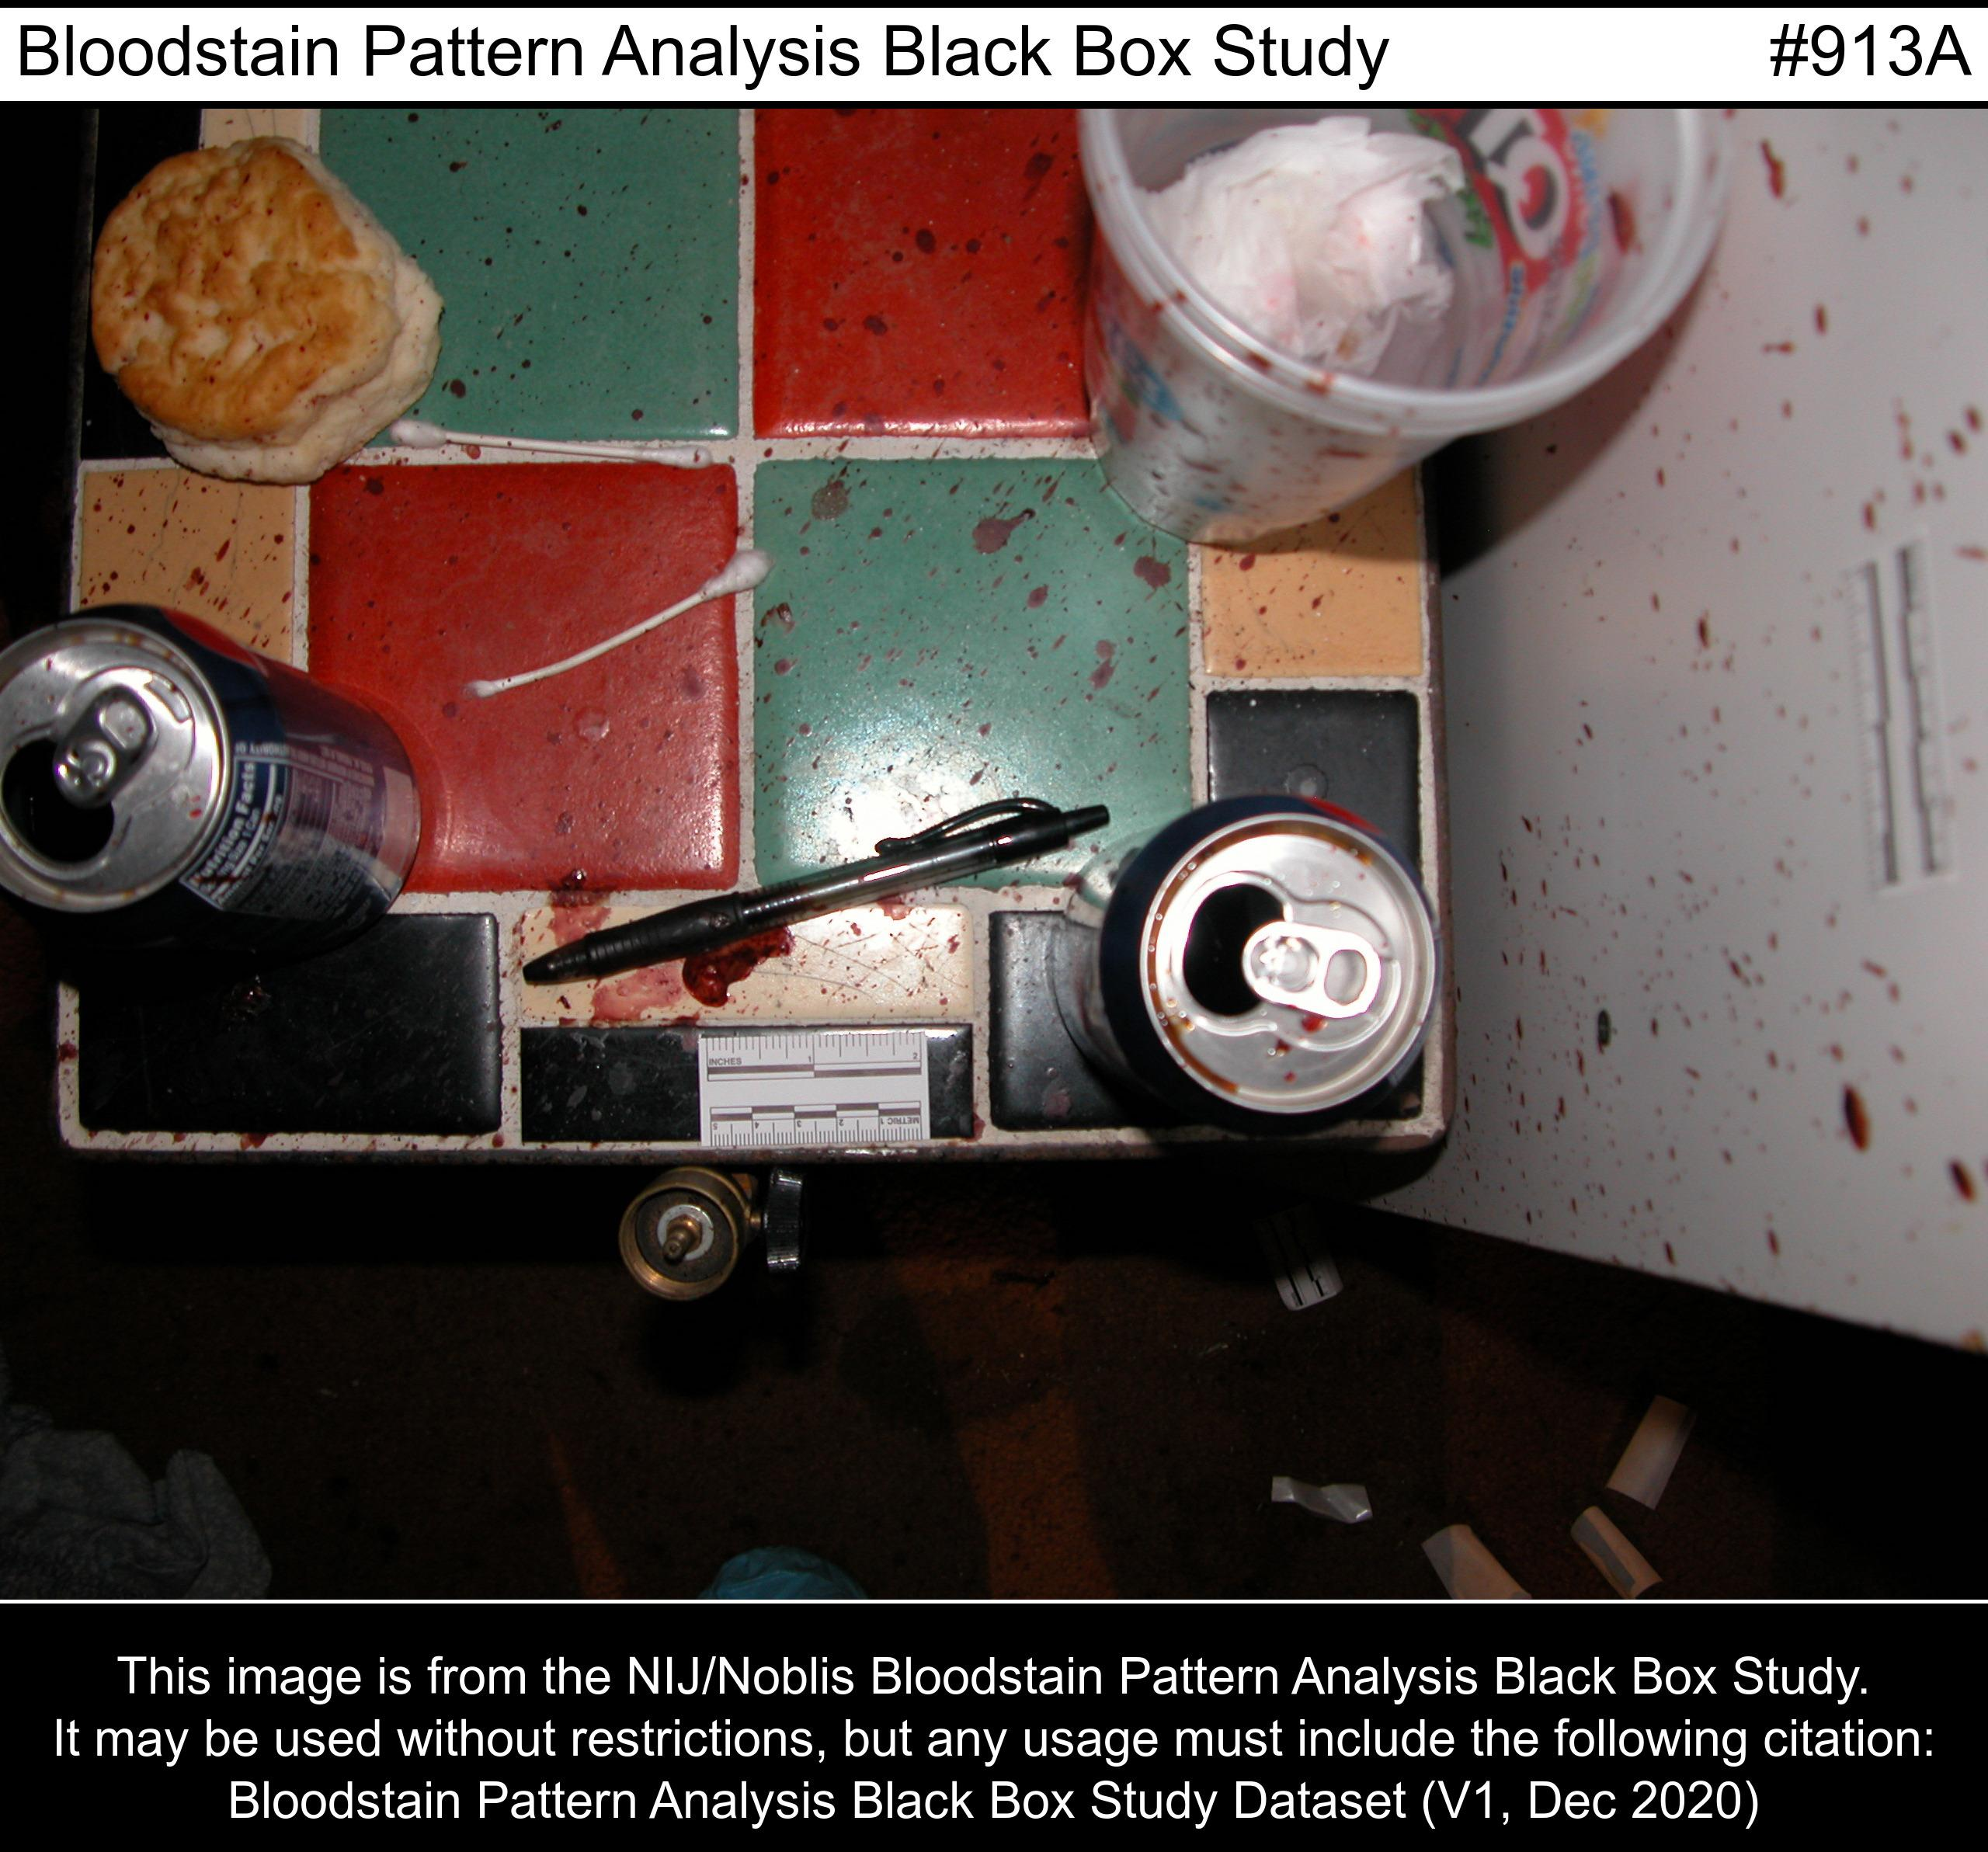Impact: (1459, 108, 1988, 1213), (749, 453, 1198, 898), (327, 111, 745, 437)
